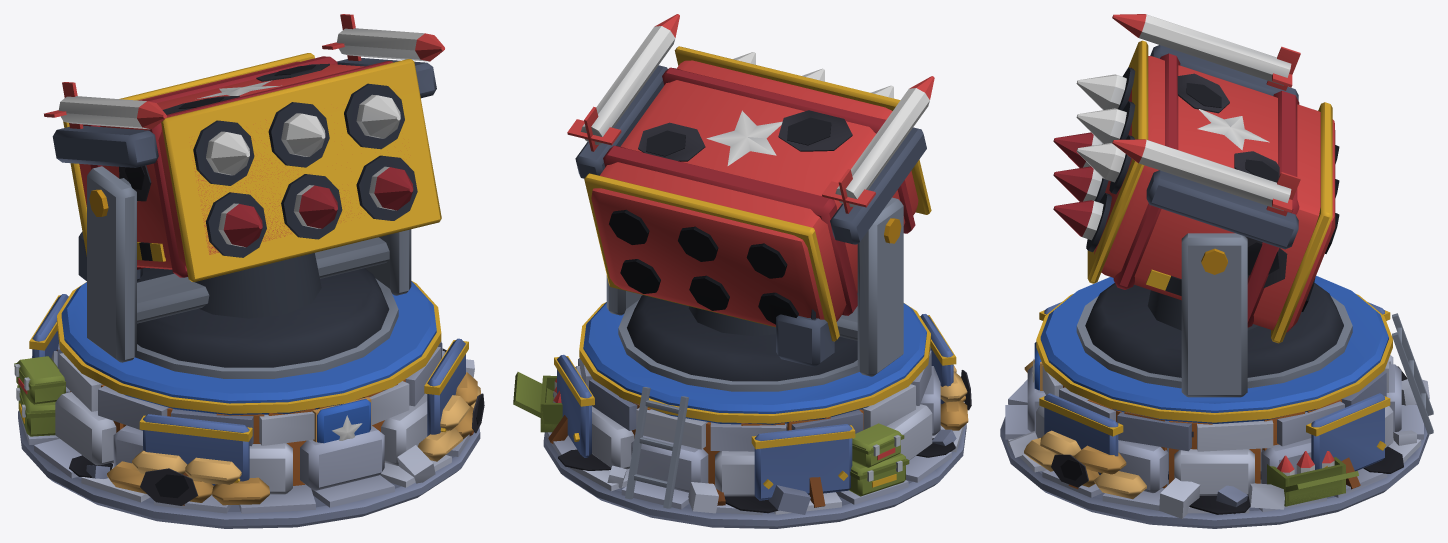
File: t_rocket.glb
3 views of the same model, side by side, from view 1: azimuth 30°, elevation 25°; view 2: azimuth 150°, elevation 25°; view 3: azimuth 270°, elevation 25° (orthographic). The views are drawn at different scales.
Parts seen in each view (by area): view 1: head, lv4_stone, pitch, lv7_trim, base, lv7_armor, lv4_pods, dmg2_base, dmg1_head, lvmax3_wood, dmg1_base; view 2: pitch, lv4_stone, head, base, lv4_pods, lv7_armor, lv7_trim, dmg2_base, lv7_ladder, dmg2_head, dmg1_head, dmg1_base (+1 smaller); view 3: pitch, lv4_stone, head, lv4_pods, base, lv7_armor, lv7_trim, dmg2_base, dmg2_head, dmg1_base, lvmax3_wood, lv7_ladder (+1 smaller).
Boxes of the visible parts, x1,y1,x2,y2 form: head: (78, 166, 411, 378); lv4_stone: (51, 281, 445, 494); pitch: (79, 56, 417, 277); lv7_trim: (63, 53, 441, 282); base: (14, 356, 480, 528); lv7_armor: (29, 281, 468, 485); lv4_pods: (44, 14, 444, 167); dmg2_base: (32, 348, 474, 505); dmg1_head: (119, 63, 329, 201); lvmax3_wood: (56, 349, 473, 505); dmg1_base: (69, 393, 484, 478); pitch: (591, 52, 918, 326); lv4_stone: (575, 302, 940, 496); head: (606, 197, 903, 391); base: (513, 365, 968, 528); lv4_pods: (567, 14, 934, 244); lv7_armor: (554, 302, 956, 500); lv7_trim: (584, 46, 931, 341); dmg2_base: (553, 370, 971, 514); lv7_ladder: (625, 387, 688, 508); dmg2_head: (778, 110, 852, 151); dmg1_head: (638, 122, 705, 161); dmg1_base: (558, 429, 956, 488); pitch: (1053, 53, 1339, 332); lv4_stone: (1027, 275, 1401, 495); head: (1076, 233, 1352, 397); lv4_pods: (1112, 14, 1300, 249); base: (1000, 359, 1429, 528); lv7_armor: (1036, 294, 1392, 474); lv7_trim: (1087, 40, 1332, 343); dmg2_base: (1009, 366, 1429, 518); dmg2_head: (1177, 73, 1287, 288); dmg1_base: (1051, 430, 1416, 514); lvmax3_wood: (1040, 361, 1360, 489); lv7_ladder: (1392, 313, 1433, 434).
Size of the model in its own units: 5.19 by 4.67 by 5.05.
